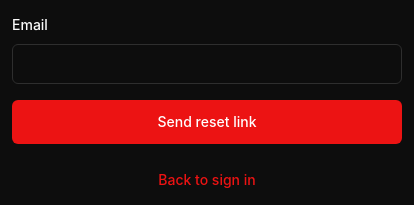
Test: intercepted recovery requests › gives the same neutral response without account disclosure: {"error":null}
Type "mock@example.test" into the field labelled "Email" at (207, 64), box [12,44,402,84]
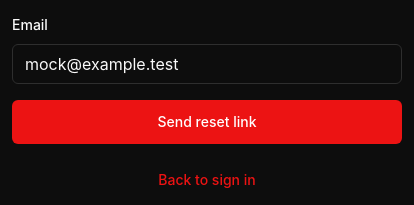
Click the button "Send reset link" at (207, 122), box [12,100,402,144]
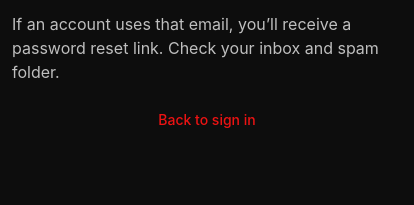
Result: the message shows "If an account uses that email" at [12,14,379,82]
